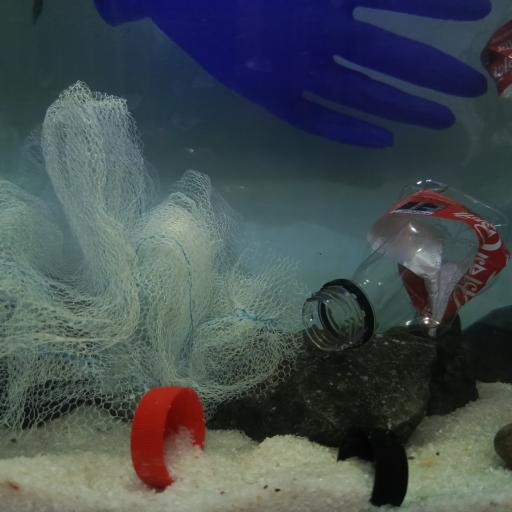bottle_cap: (130, 384, 203, 491), (338, 424, 408, 506)
glove: (90, 0, 492, 151)
net: (1, 82, 309, 440)
plastic_bottle: (303, 177, 512, 352)
